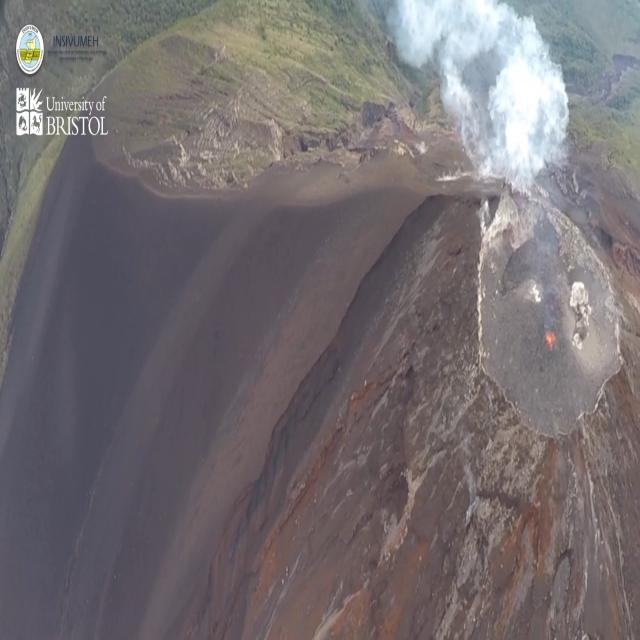Plume: (362, 0, 574, 188)
Summit: (469, 176, 635, 464)
